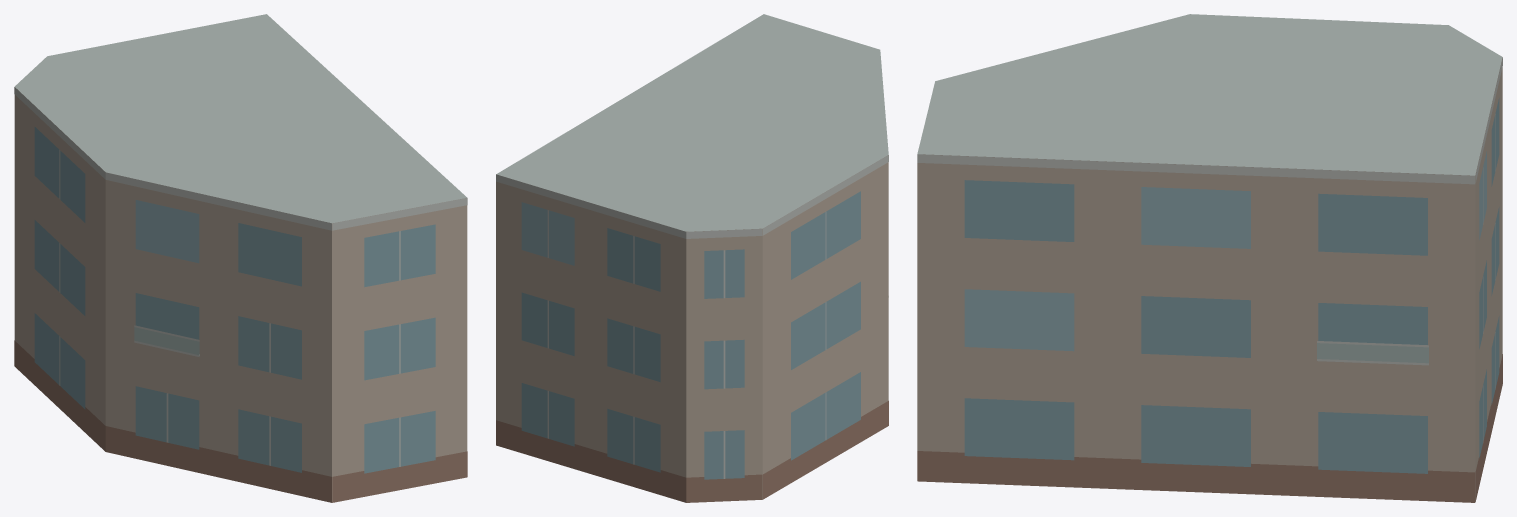
The model's file is survey-upis-33044953.glb.
3 renders of one model, left to right at view 1: azimuth 30°, elevation 25°; view 2: azimuth 150°, elevation 25°; view 3: azimuth 270°, elevation 25°, orthographic. The views are drawn at different scales.
Parts seen in each view (by area): view 1: survey-upis-33044953.tmp; view 2: survey-upis-33044953.tmp; view 3: survey-upis-33044953.tmp.
Part boxes in pixels (<box>): survey-upis-33044953.tmp: <box>14,14,467,502</box>; survey-upis-33044953.tmp: <box>496,14,888,502</box>; survey-upis-33044953.tmp: <box>917,14,1502,502</box>.
Bounding box in the file's own units: 9.7 × 9.15 × 14.85.
